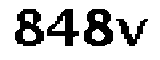4: (47, 7, 82, 49)
8: (83, 5, 115, 51), (12, 7, 46, 47)
v: (115, 15, 152, 51)
